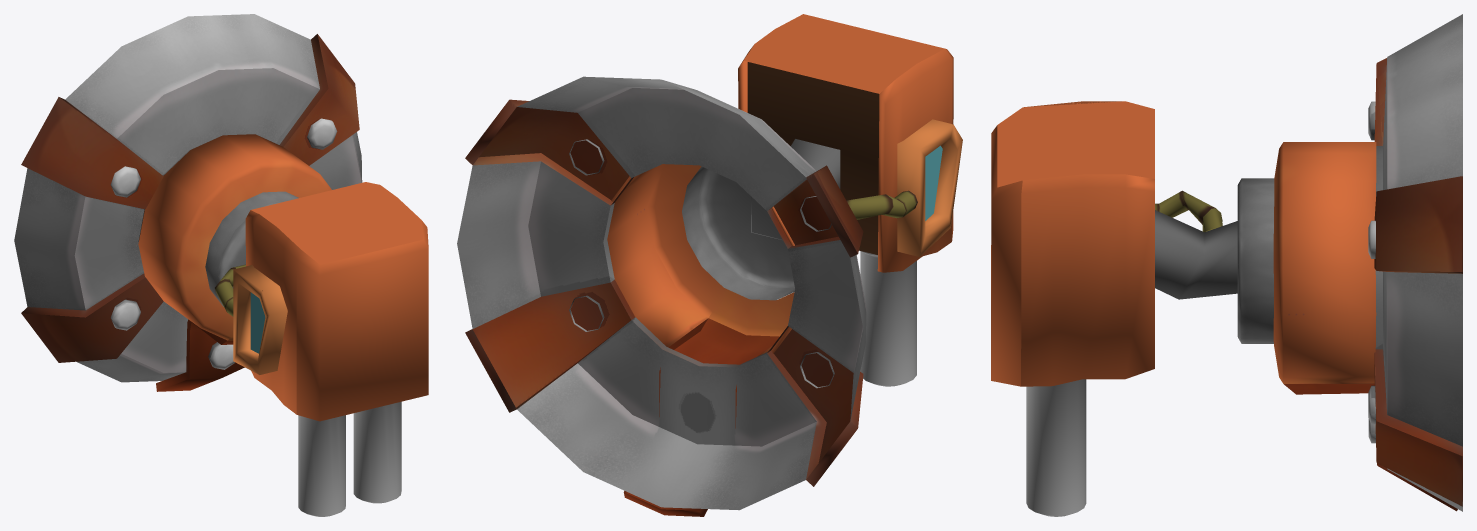
The model's file is MachineX.fbx.
The picture shows the model from 3 angles, left to right: view 1: azimuth 30°, elevation 25°; view 2: azimuth 150°, elevation 25°; view 3: azimuth 270°, elevation 25°; orthographic projection. The views are drawn at different scales.
Parts seen in each view (by area): view 1: Machine Flame X; view 2: Machine Flame X; view 3: Machine Flame X.
Boxes of the visible parts, x1,y1,x2,y2 form: Machine Flame X: [14, 14, 428, 516]; Machine Flame X: [457, 14, 962, 516]; Machine Flame X: [991, 14, 1462, 516].
Size of the model in its own units: 4.19 by 4.29 by 3.97.
